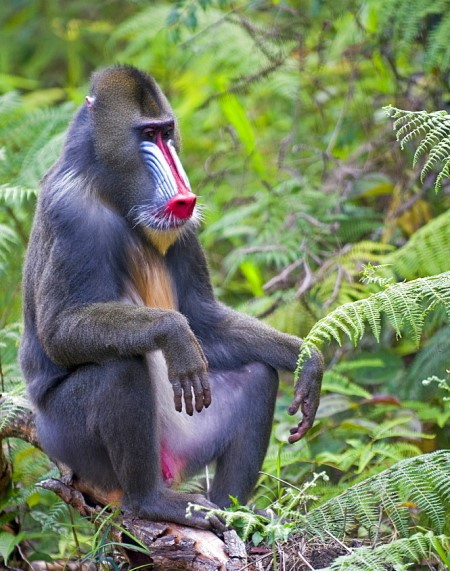Mandrill: (41, 64, 324, 538)
